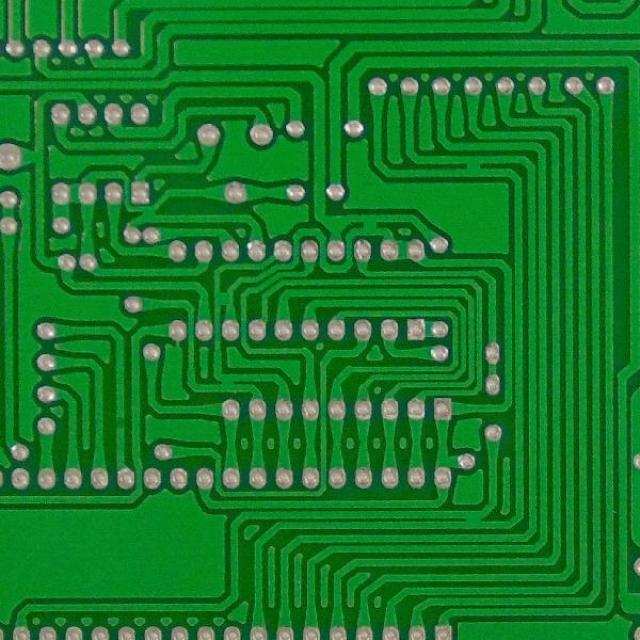short: (217, 370, 243, 396), (356, 211, 383, 235), (461, 508, 487, 531), (462, 156, 488, 178), (213, 287, 238, 308)
